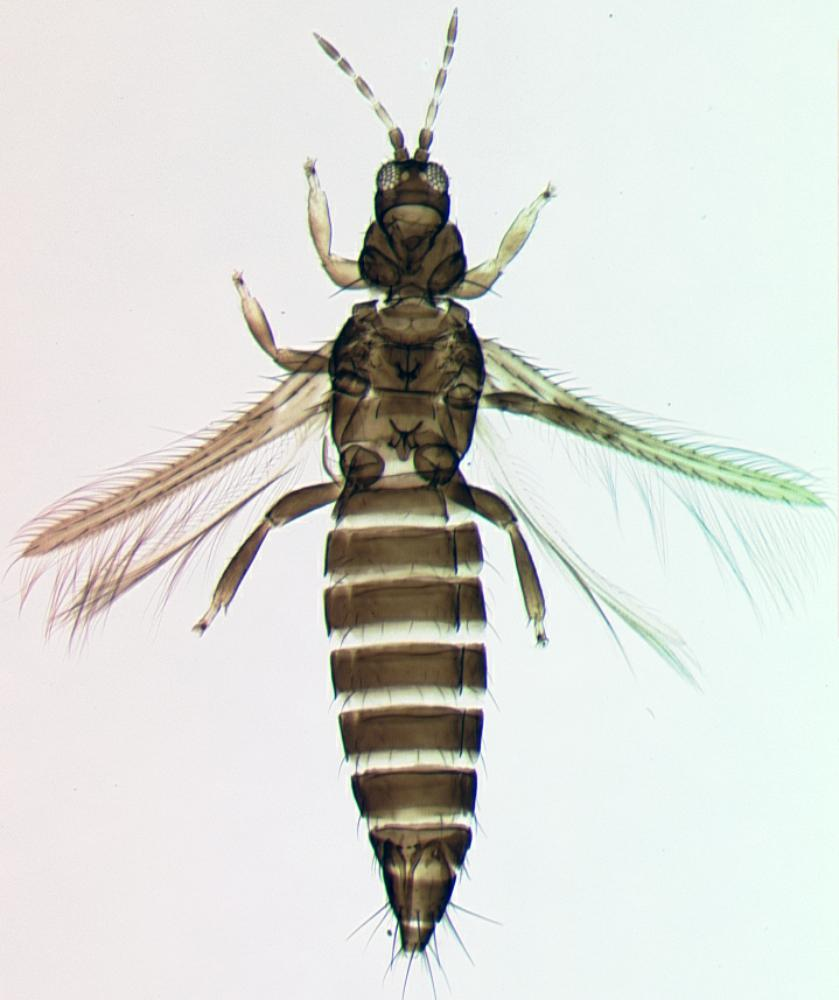Thripidae: (1, 10, 819, 958)
